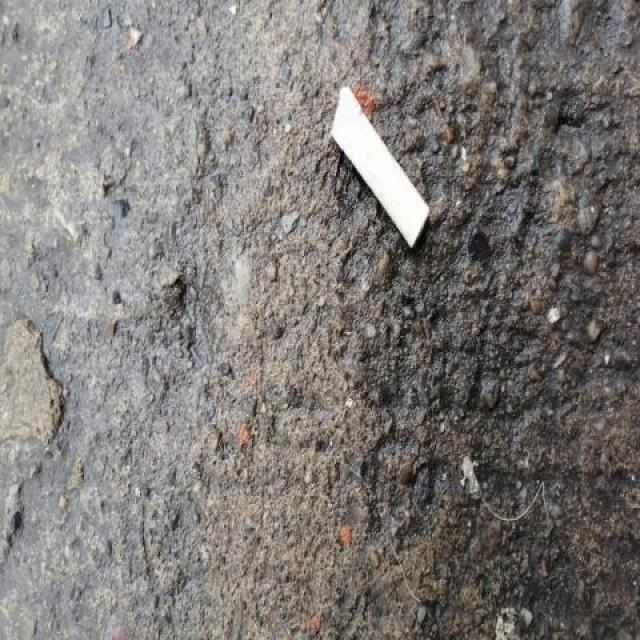non-organic waste: (328, 76, 435, 256)
